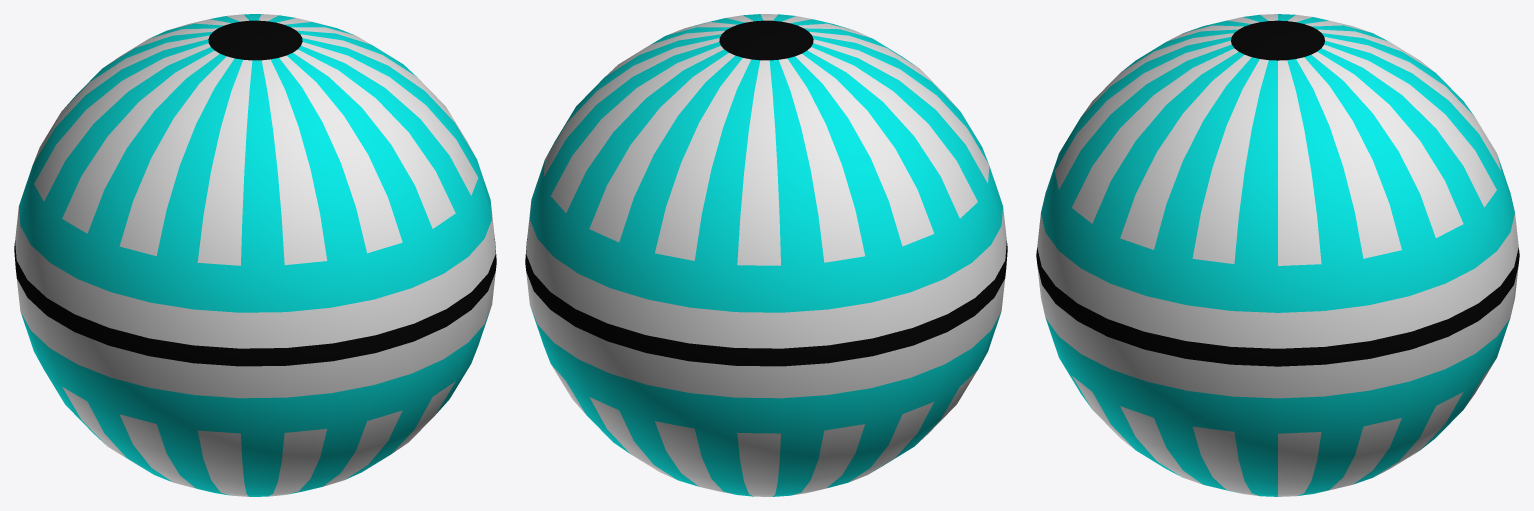
The model's file is captureBall.fbx.
The picture shows the model from 3 angles, left to right: view 1: azimuth 30°, elevation 25°; view 2: azimuth 150°, elevation 25°; view 3: azimuth 270°, elevation 25°; orthographic projection.
Visible parts, largest first — view 1: Sphere; view 2: Sphere; view 3: Sphere.
Part boxes in pixels (<box>): Sphere: <box>14,14,496,496</box>; Sphere: <box>525,14,1007,496</box>; Sphere: <box>1036,14,1519,496</box>.
Size of the model in its own units: 200 by 200 by 200.
